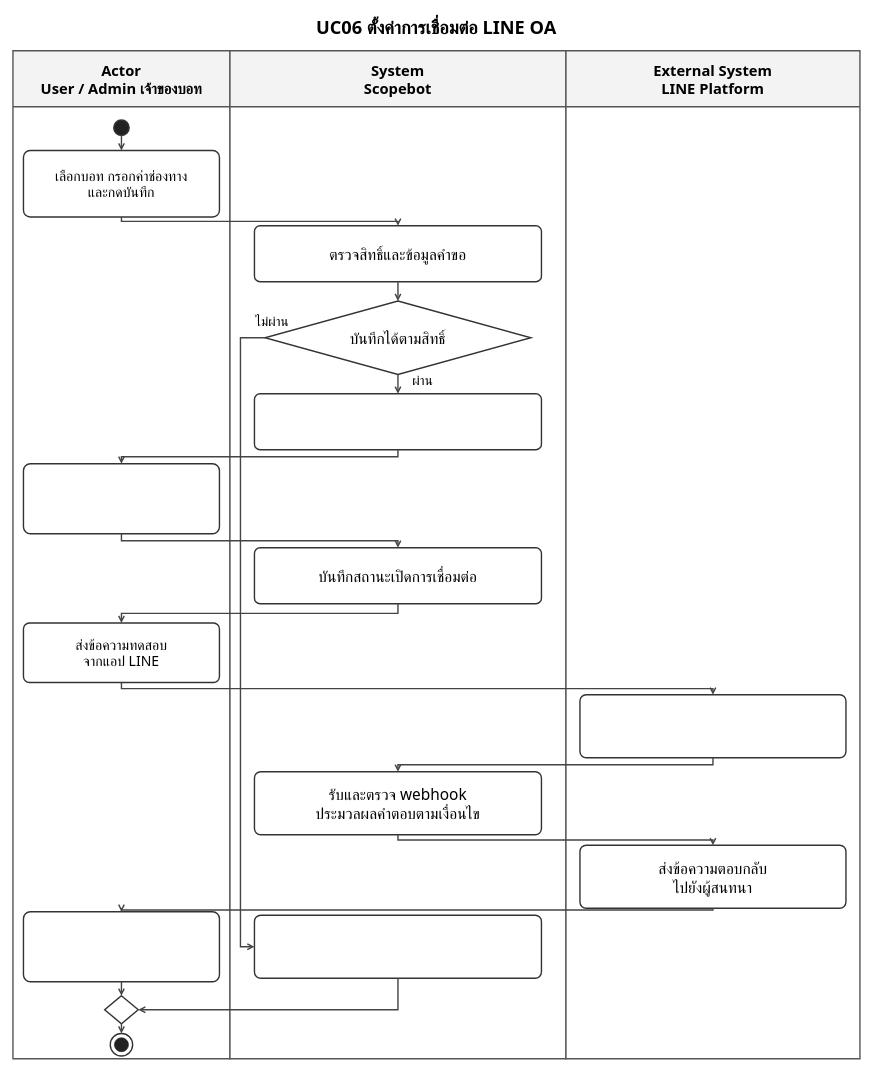
The diagram is 872 pixels wide and 1071 high, and some of its shapes have lost their labels. The centre of each missing label's shape, as x and y in pixels:
"ตรวจผลรับส่ง หากไม่ผ่านให้แก้ค่าก่อนลองใหม่" belongs at point 121,946.
"บันทึกค่าช่องทาง" belongs at point 397,421.
"รับข้อความทดสอบ ส่งเหตุการณ์ไป webhook" belongs at point 712,726.
"เปิดการเชื่อมต่อ และตั้ง webhook บน LINE" belongs at point 121,498.
"แจ้งข้อผิดพลาด ไม่บันทึกค่าที่ถูกปฏิเสธ" belongs at point 397,946.
